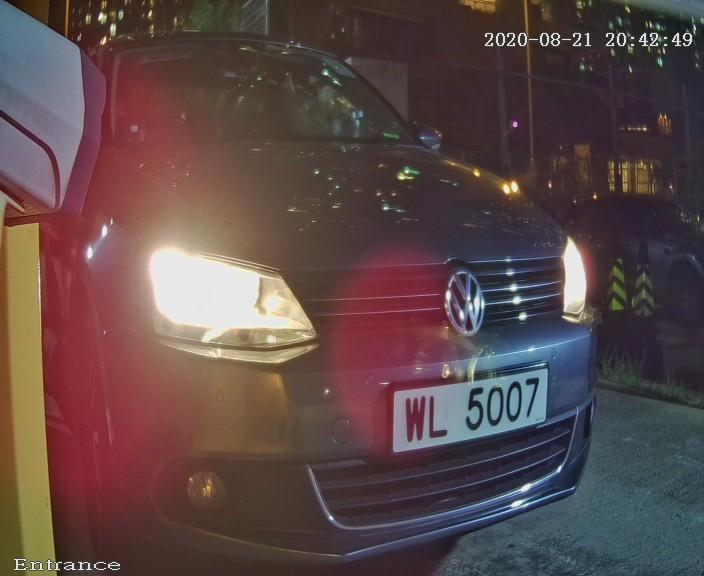License Plate: (370, 353, 557, 475)
